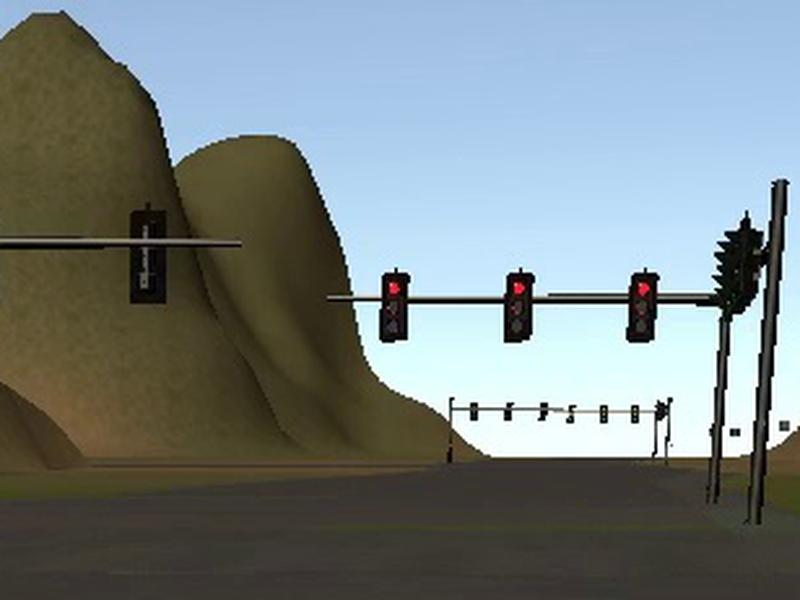Red: (502, 273, 534, 344), (627, 273, 659, 341), (379, 273, 410, 342)
